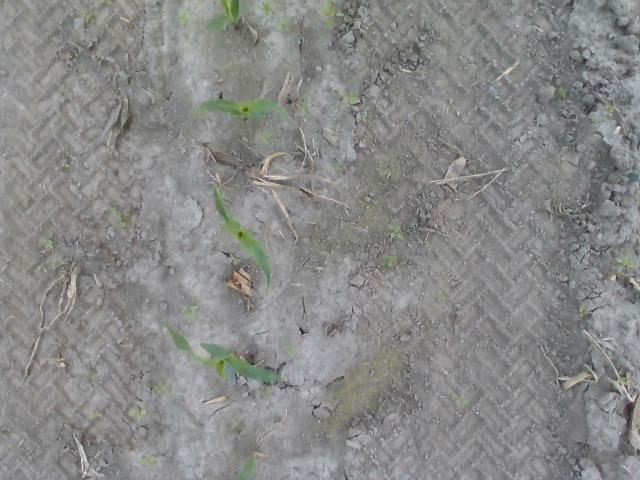Maize: (160, 318, 284, 384), (210, 185, 272, 289), (192, 96, 290, 123), (205, 0, 240, 34), (232, 451, 256, 480)
Weeds: (318, 0, 342, 16), (138, 453, 160, 470), (615, 256, 634, 272), (338, 90, 359, 104), (180, 304, 198, 320), (110, 208, 124, 226), (176, 10, 191, 26), (128, 406, 148, 418), (388, 224, 403, 240), (453, 393, 468, 407), (152, 381, 166, 395), (257, 386, 273, 398), (602, 105, 616, 117), (384, 254, 396, 268), (260, 0, 272, 12), (261, 131, 273, 143), (329, 164, 341, 176), (578, 306, 590, 318), (40, 238, 54, 248), (300, 102, 312, 112), (558, 86, 566, 99), (278, 20, 288, 30)
